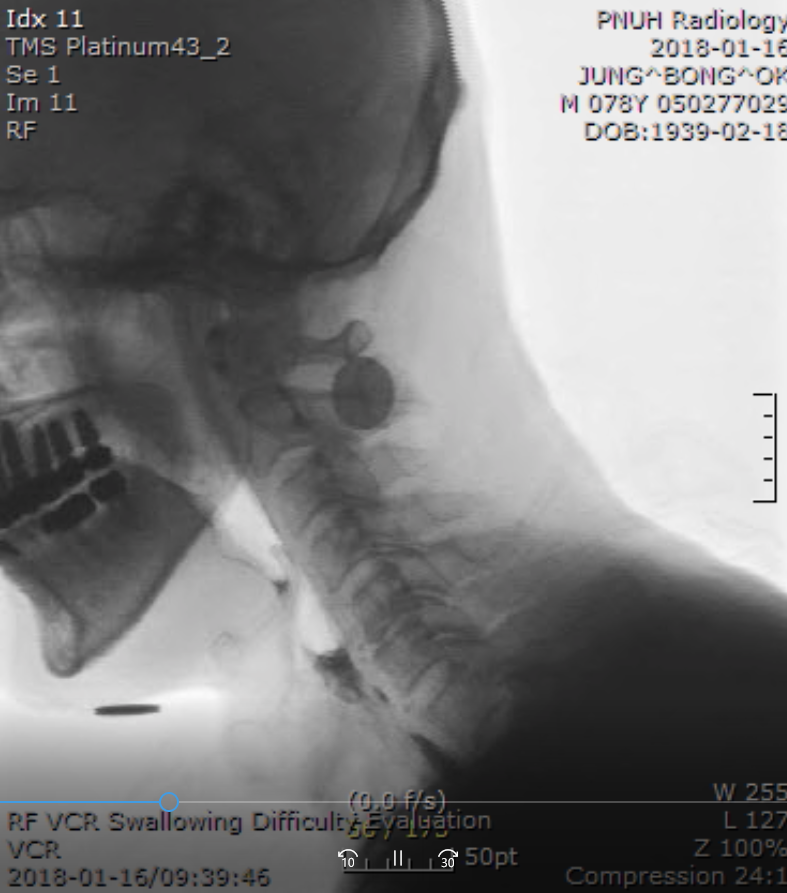dros: (278, 617, 349, 684)
food: (304, 637, 361, 716)
uros: (217, 538, 288, 606)
